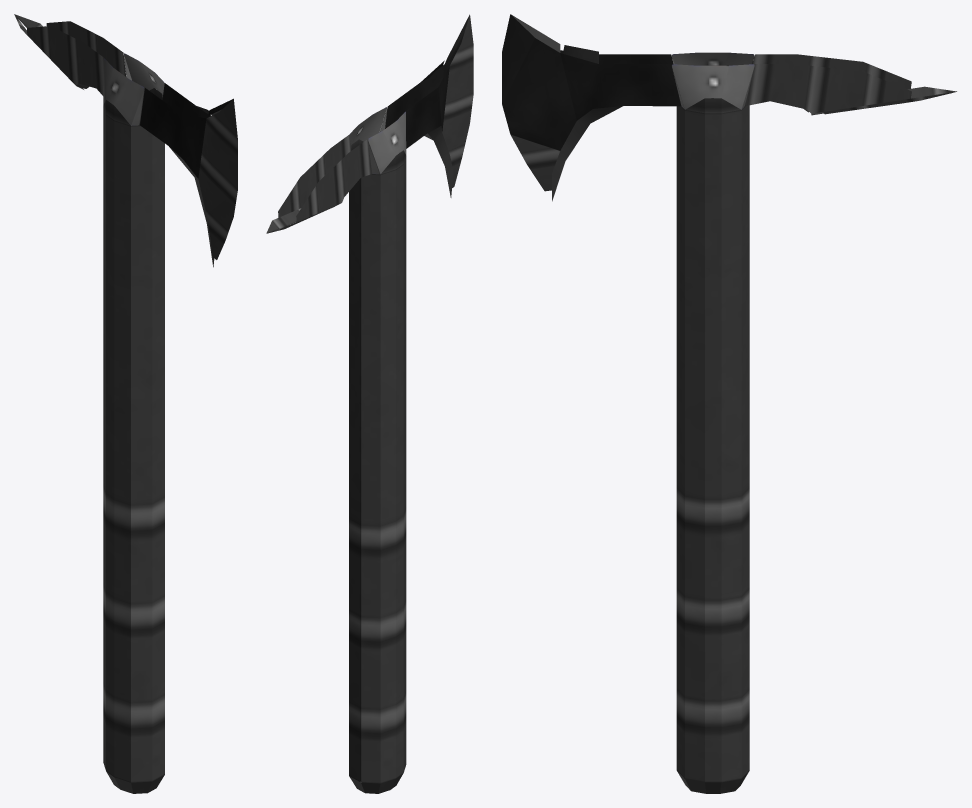
Rendered from tomahawk2.obj.
3 views of the same model, side by side, from view 1: azimuth 30°, elevation 25°; view 2: azimuth 150°, elevation 25°; view 3: azimuth 270°, elevation 25° (orthographic). The views are drawn at different scales.
Parts seen in each view (by area): view 1: Cube.002, Cube.001; view 2: Cube.002, Cube.001; view 3: Cube.002, Cube.001.
Part boxes in pixels (bbox=[...]): Cube.002: bbox=[103, 88, 164, 793]; Cube.001: bbox=[14, 14, 237, 267]; Cube.002: bbox=[349, 139, 406, 793]; Cube.001: bbox=[266, 14, 473, 233]; Cube.002: bbox=[676, 98, 749, 793]; Cube.001: bbox=[502, 14, 956, 201].
Bounding box in the file's own units: 1.06 × 16 × 8.57.
